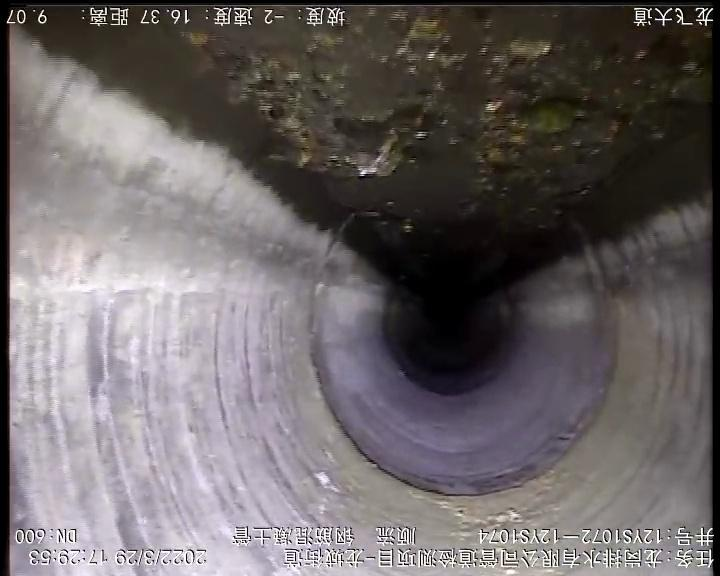CJ: (180, 8, 712, 284)
CKTJ: (306, 206, 623, 498)
